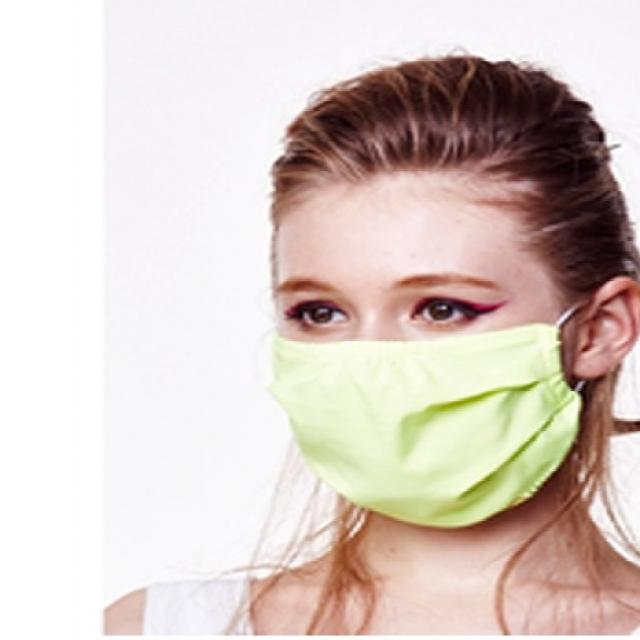mask: (266, 169, 558, 511)
